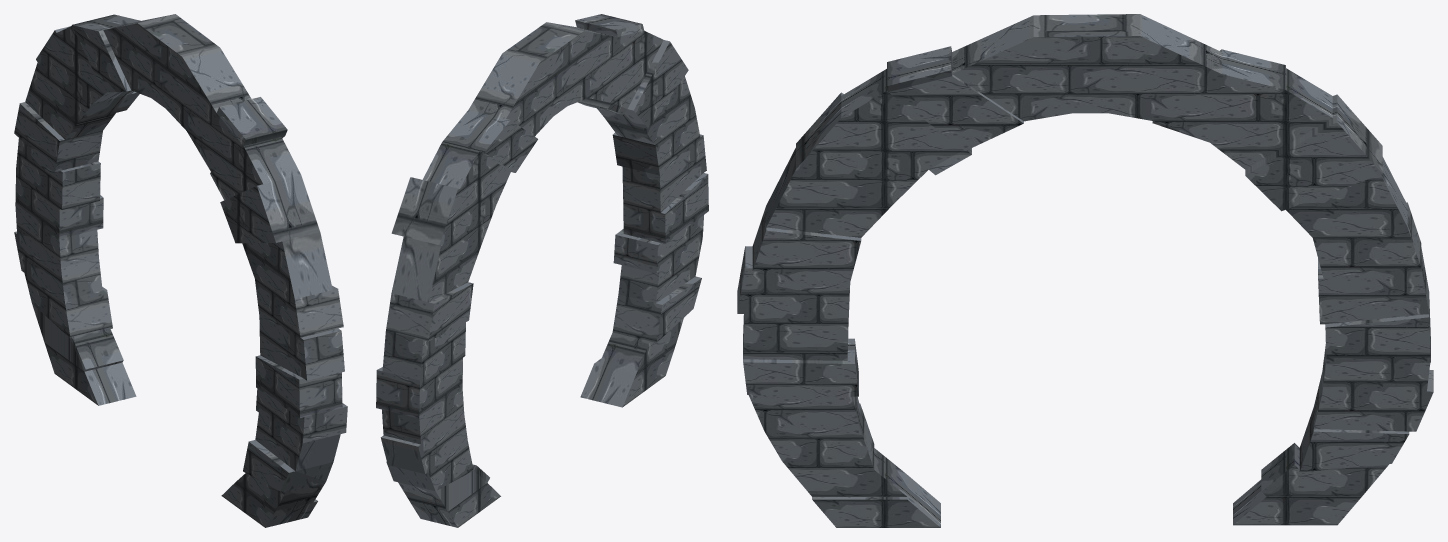
The model's file is Portail normal.fbx.
The picture shows the model from 3 angles, left to right: view 1: azimuth 30°, elevation 25°; view 2: azimuth 150°, elevation 25°; view 3: azimuth 270°, elevation 25°; orthographic projection. The views are drawn at different scales.
Visible parts, largest first — view 1: Box001; view 2: Box001; view 3: Box001.
Boxes of the visible parts, <box> form: Box001: <box>14,14,347,527</box>; Box001: <box>376,14,708,527</box>; Box001: <box>737,14,1433,527</box>.
Bounding box in the file's own units: 0.7243 × 5.17 × 6.67.
